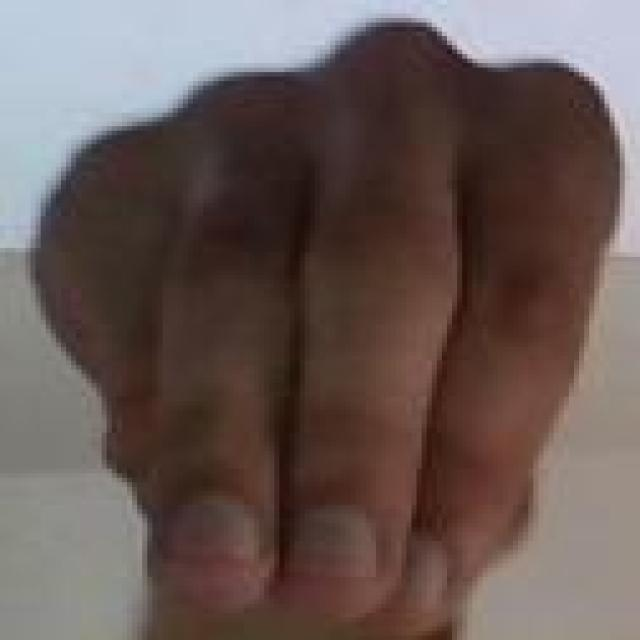M: (20, 7, 626, 626)
